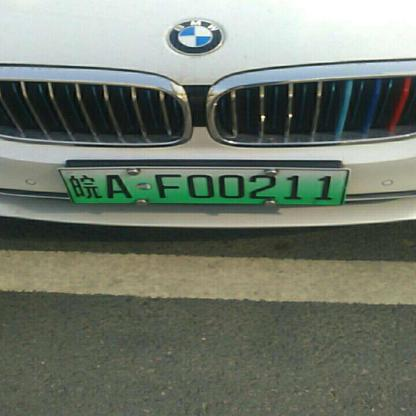lp: (58, 168, 348, 204)
